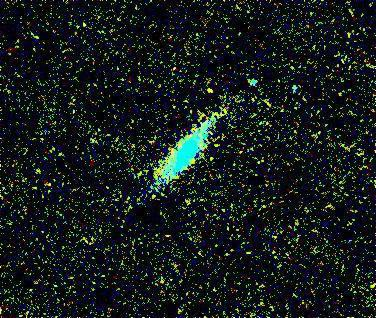star: (194, 79, 224, 109)
